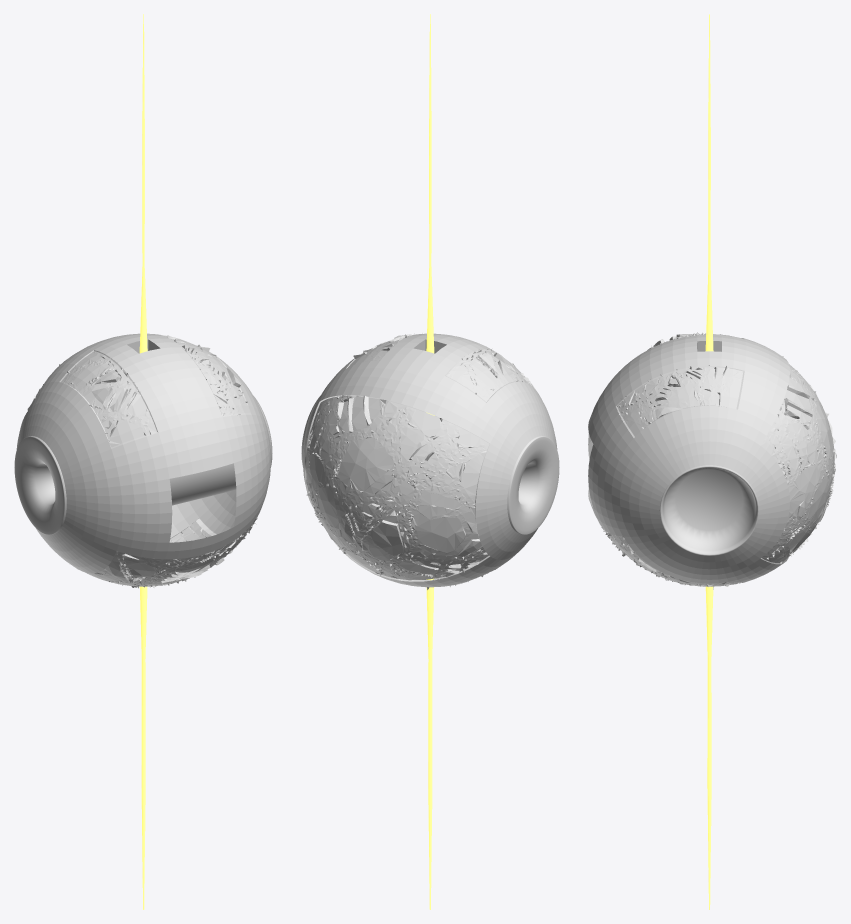
File: portworld-overlay.glb
3 views of the same model, side by side, from view 1: azimuth 30°, elevation 25°; view 2: azimuth 150°, elevation 25°; view 3: azimuth 270°, elevation 25° (orthographic).
Visible parts, largest first — view 1: landmargin, landmargin.plus.001, overlayinside, Cylinder; view 2: land.002, landmargin, overlayinside, landmargin.plus.001, Cylinder; view 3: landmargin, land.002, overlayinside, landmargin.plus.001, Cylinder.
Part boxes in pixels (x1,y1,x2,y2): landmargin: (16, 333, 271, 573); landmargin.plus.001: (60, 335, 257, 588); overlayinside: (14, 396, 272, 534); Cylinder: (139, 14, 147, 909); land.002: (306, 395, 489, 580); landmargin: (302, 333, 557, 587); overlayinside: (301, 395, 559, 534); landmargin.plus.001: (348, 333, 533, 589); Cylinder: (426, 14, 434, 909); landmargin: (588, 335, 789, 583); land.002: (760, 356, 836, 564); overlayinside: (659, 405, 759, 555); landmargin.plus.001: (601, 332, 743, 589); Cylinder: (705, 14, 713, 909).
Bounding box in the file's own units: 7.13 × 29.31 × 7.38.
